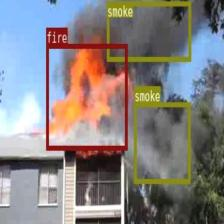fire: (46, 43, 127, 149)
smoke: (106, 0, 191, 60), (133, 101, 190, 183)
